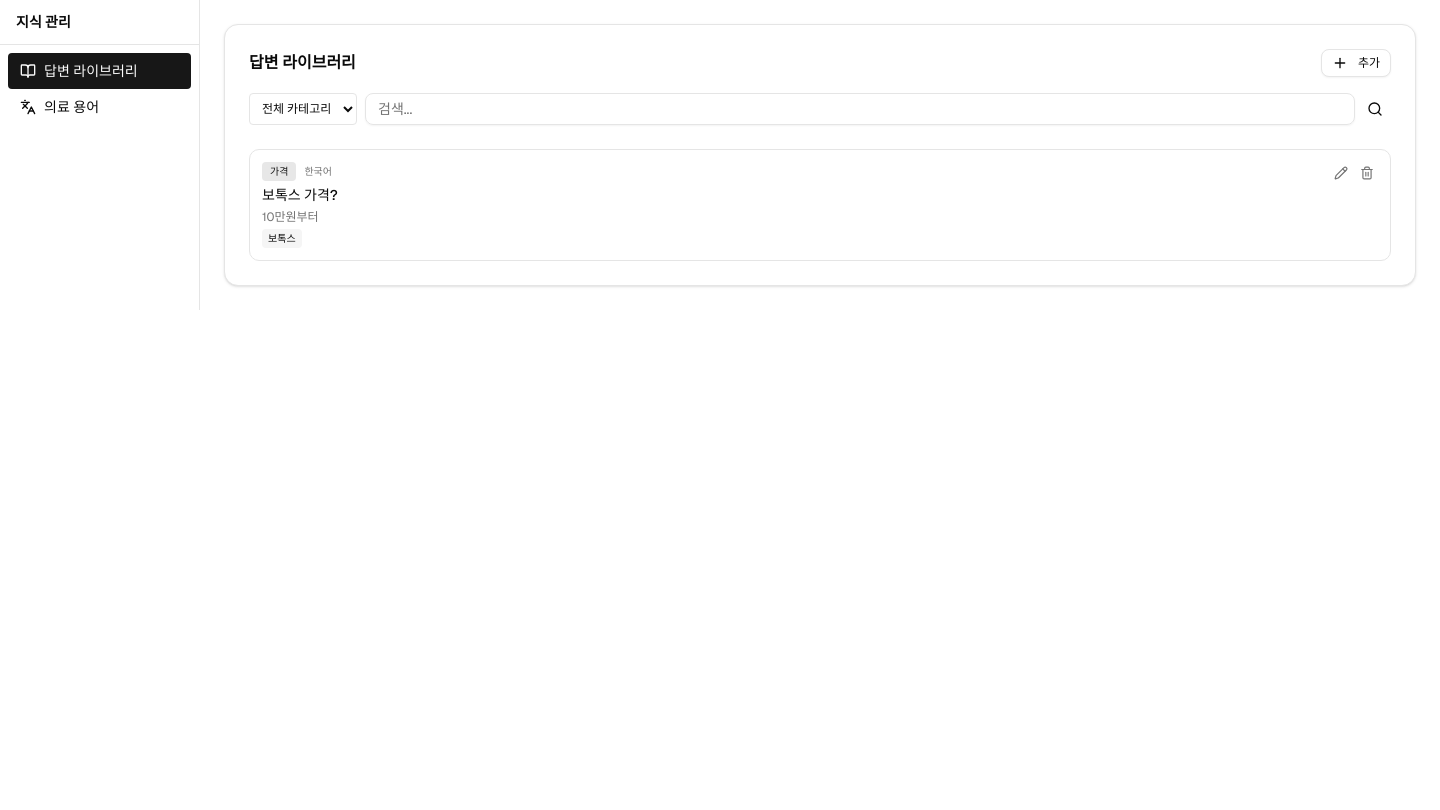
Test: KnowledgePage › shows create form for response library when clicking add
The width and height of the screenshot is (1440, 810).
Check: the text "보톡스 가격?" is shown, box 262,186 -> 338,204
Click the button "추가" at point(1356, 63), box 1321,49 -> 1391,77
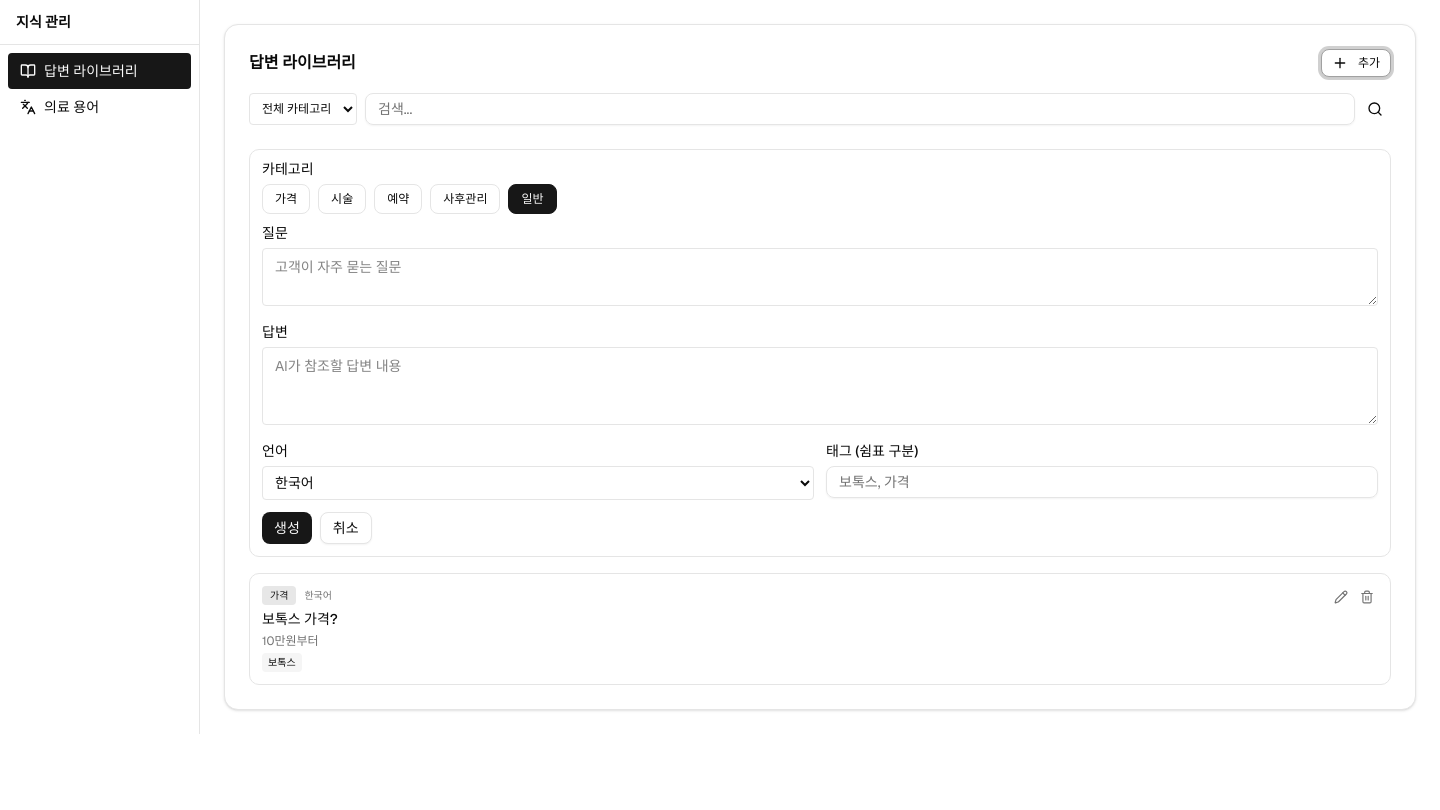
Check: the text box labelled "질문" is shown, box 262,248 -> 1378,306
Check: the text box labelled "답변" is shown, box 262,347 -> 1378,425
